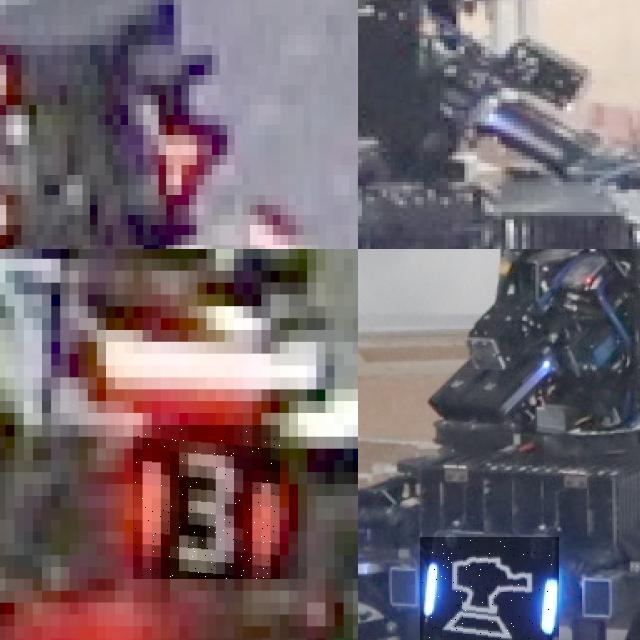Bs: (420, 537, 558, 640)
R3: (133, 425, 280, 579)
